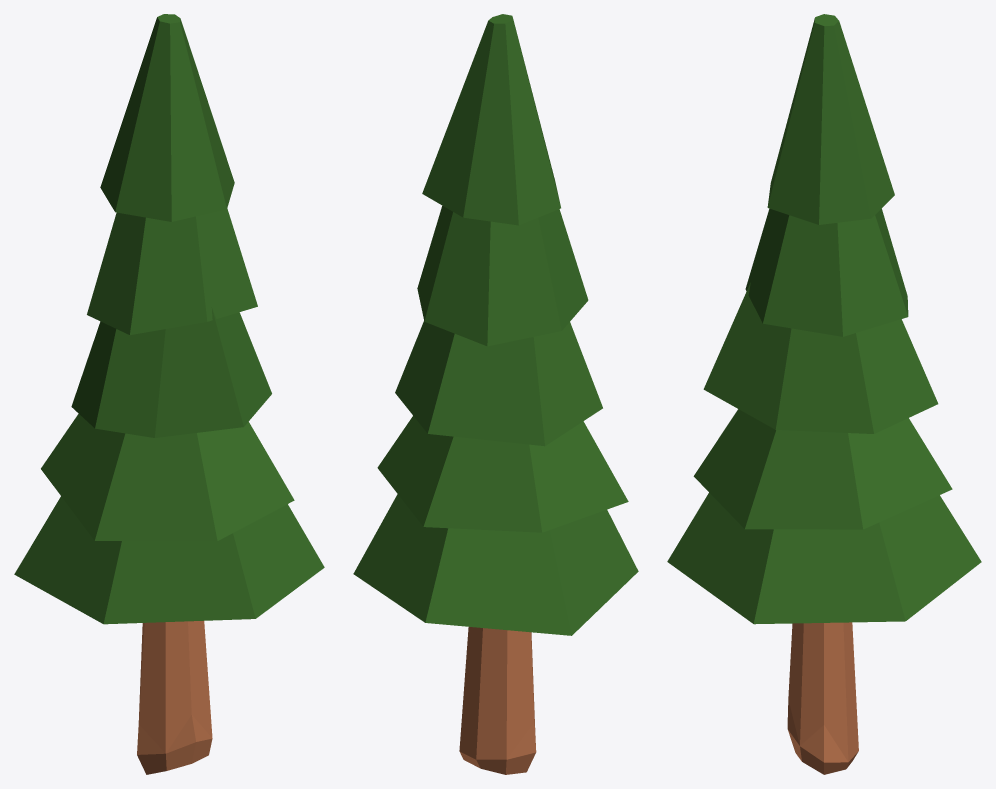
File: Tree3.fbx
3 views of the same model, side by side, from view 1: azimuth 30°, elevation 25°; view 2: azimuth 150°, elevation 25°; view 3: azimuth 270°, elevation 25° (orthographic).
Visible parts, largest first — view 1: Tree3; view 2: Tree3; view 3: Tree3.
Boxes of the visible parts, x1=… form: Tree3: x1=14, y1=14, x2=324, y2=774; Tree3: x1=353, y1=14, x2=638, y2=774; Tree3: x1=667, y1=14, x2=981, y2=774.
Bounding box in the file's own units: 636 × 1973 × 755.
